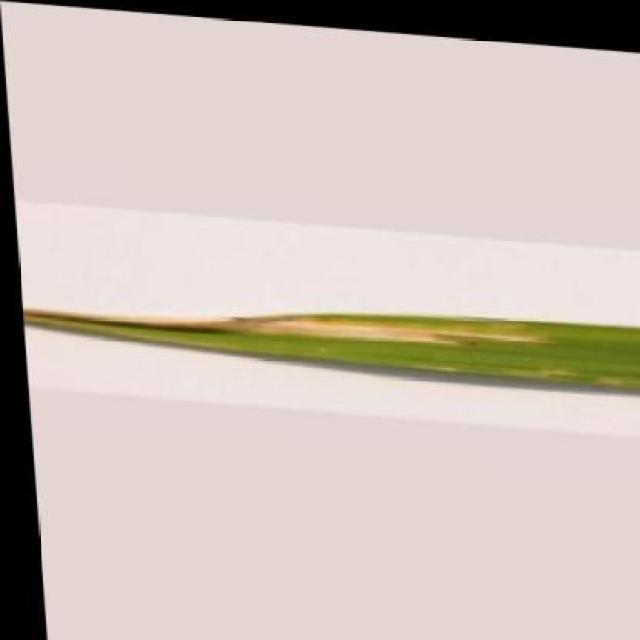Brown_Spot: (15, 273, 640, 392)
